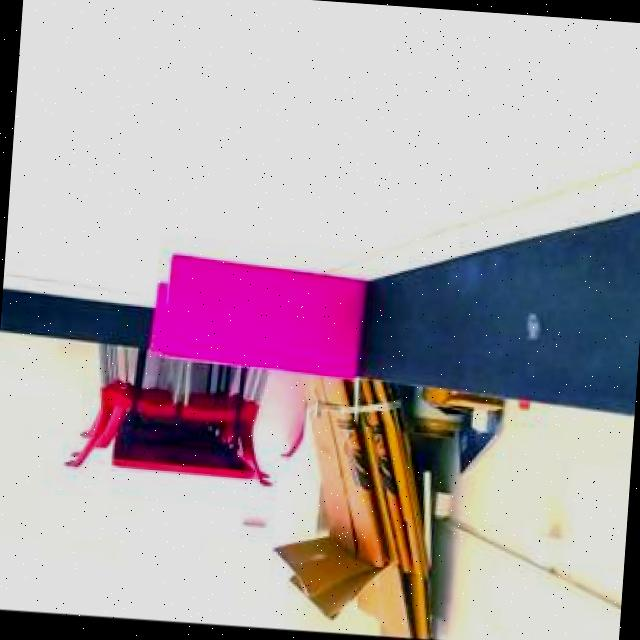xparking: (142, 250, 368, 381)
